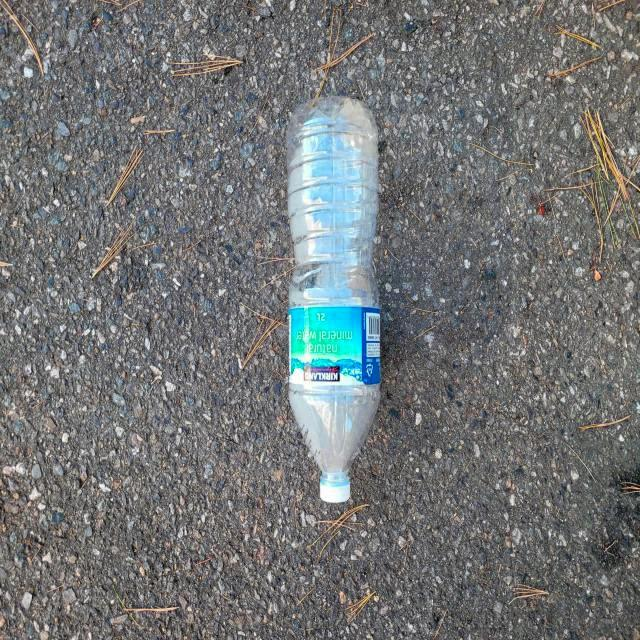bottle: (286, 98, 381, 502)
